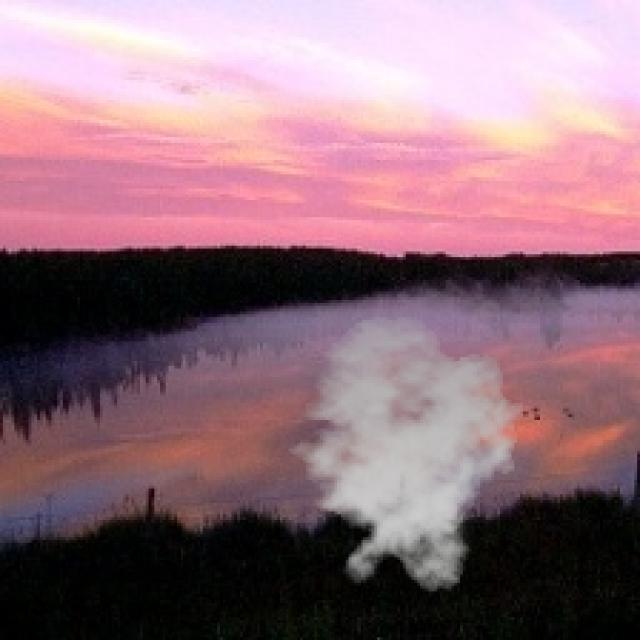smoke: (277, 314, 532, 594)
